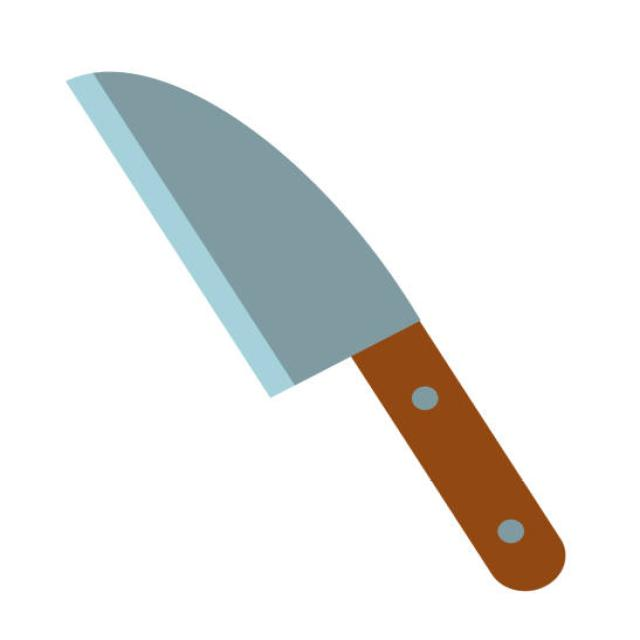knife: (67, 56, 596, 591)
